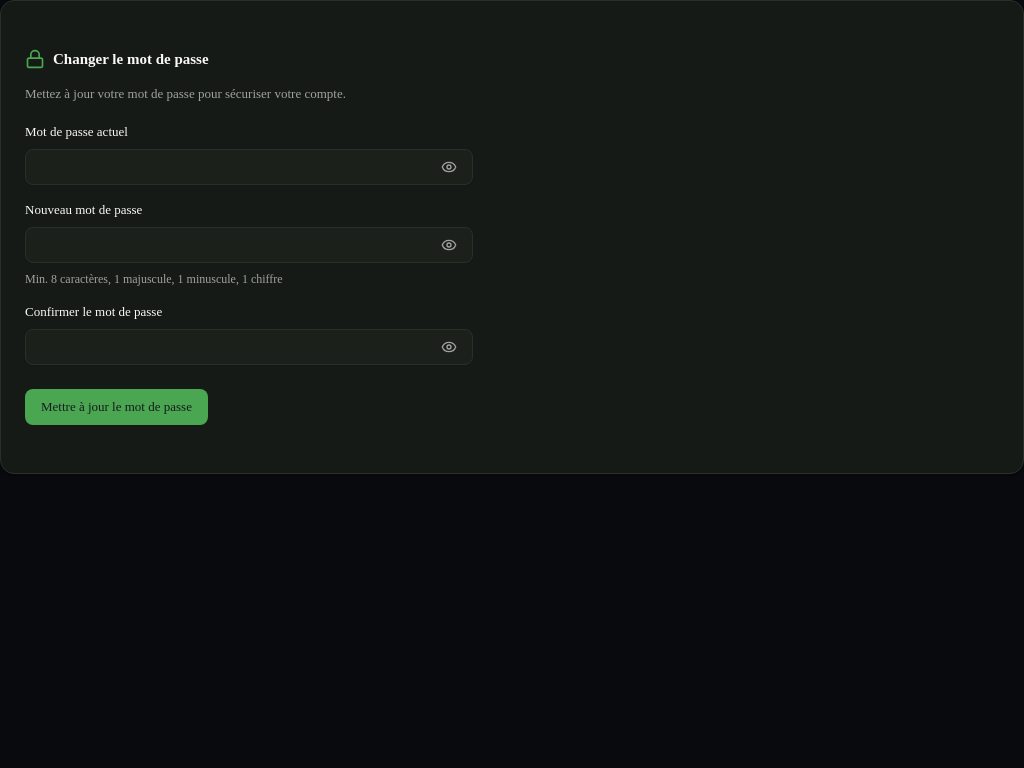
Scenario: PasswordChangeForm › renders a failure that belongs to no field as a root error
Type "ancien-mot-de-passe" into the password field labelled "Mot de passe actuel" at [249, 167], box [25,149,473,185]
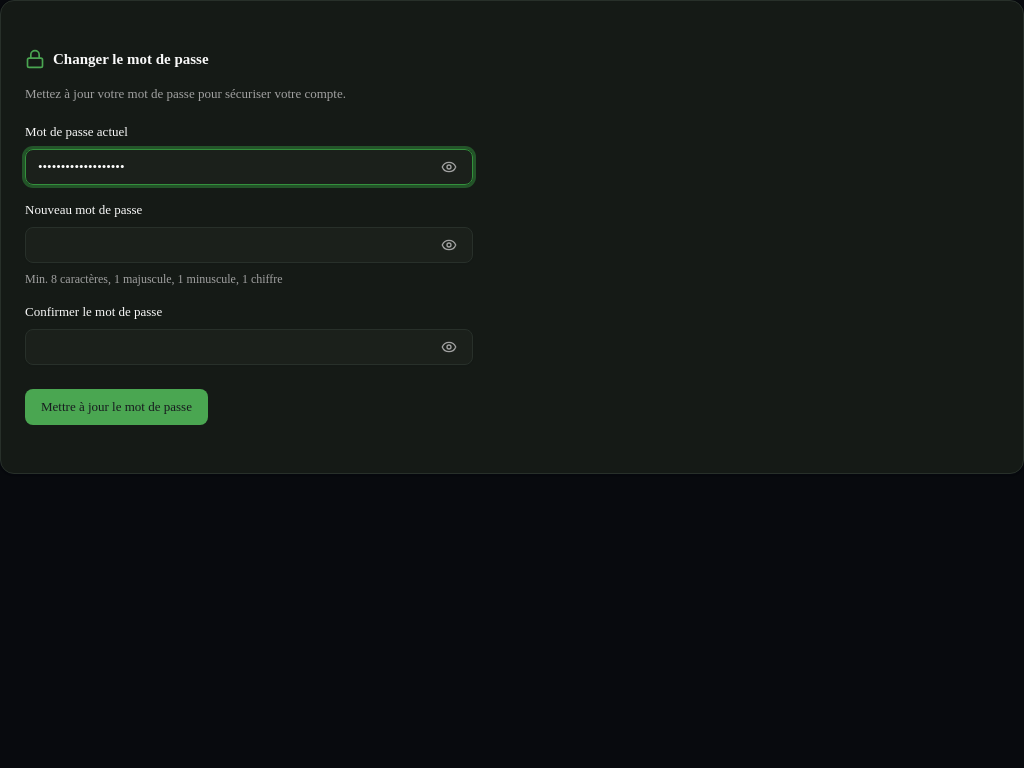
Type "Nouveau123" into the password field labelled "Nouveau mot de passe" at [249, 245], box [25,227,473,263]
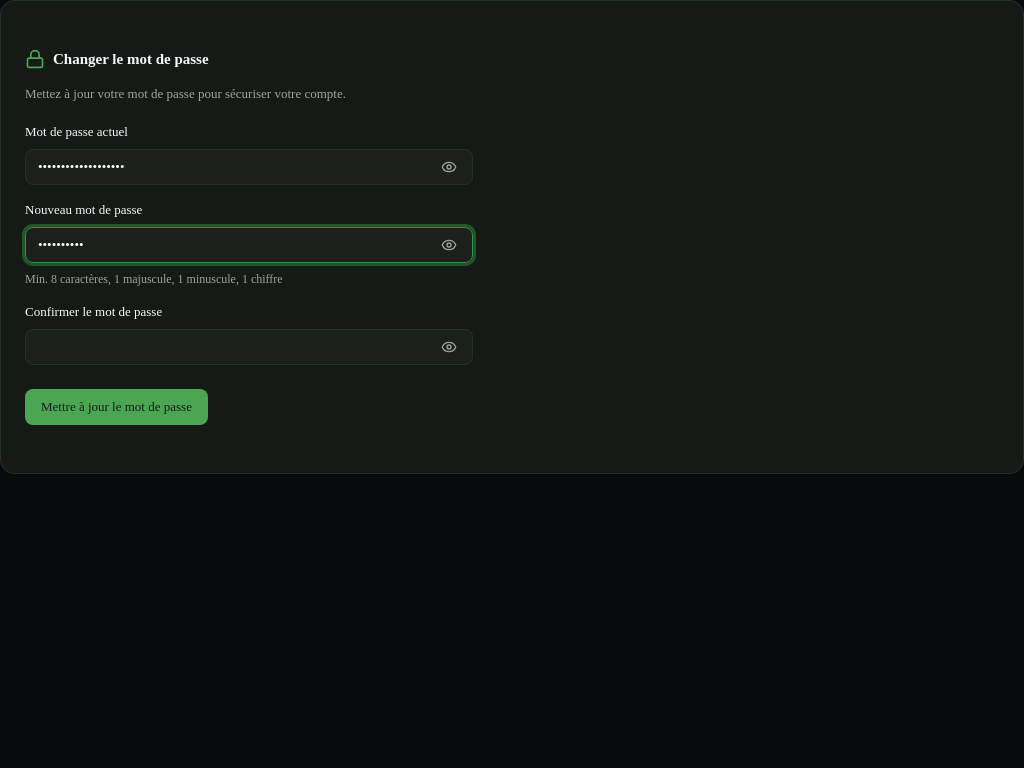
Type "Nouveau123" into the password field labelled "Confirmer le mot de passe" at [249, 347], box [25,329,473,365]
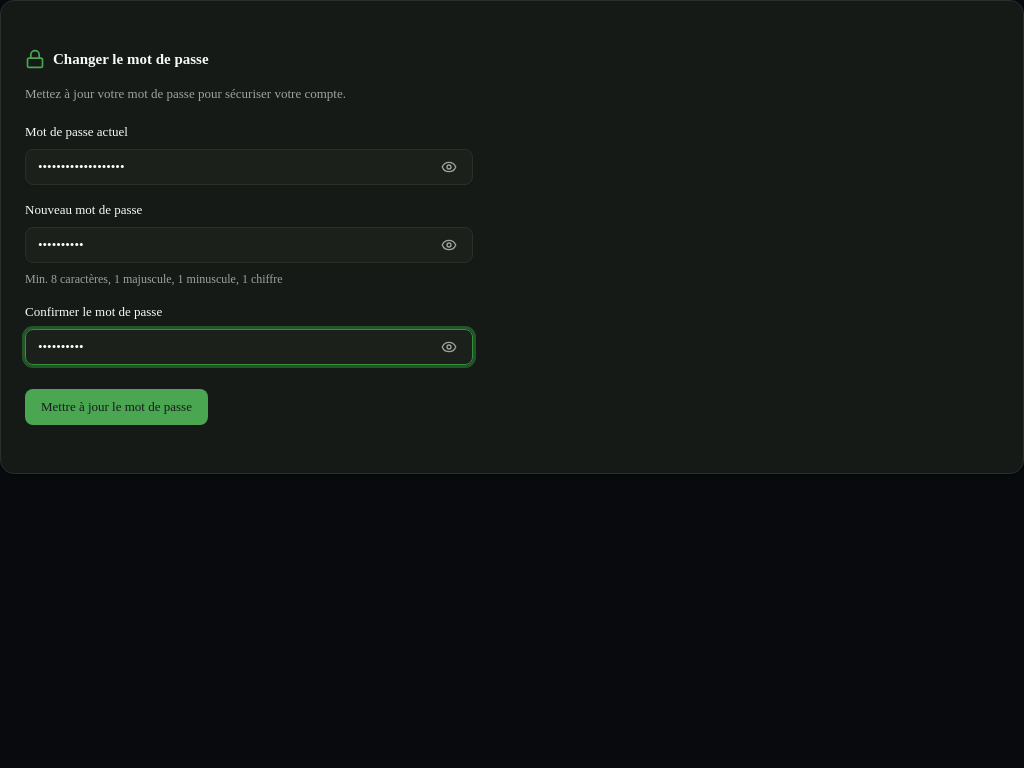
Click the button "Mettre à jour le mot de passe" at [116, 407], box [25,389,208,425]
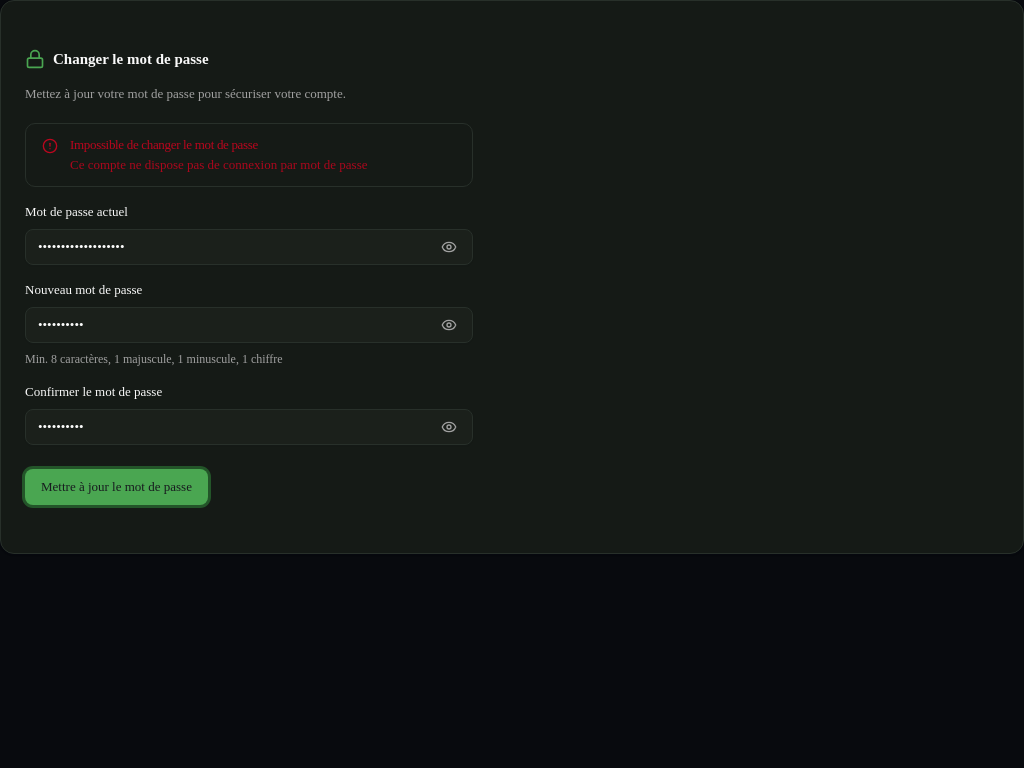
Result: the text "Impossible de changer le mot de passe" is shown at [70,137,258,152]
Result: the text "Ce compte ne dispose pas de connexion par mot de passe" is shown at [70,157,368,172]
